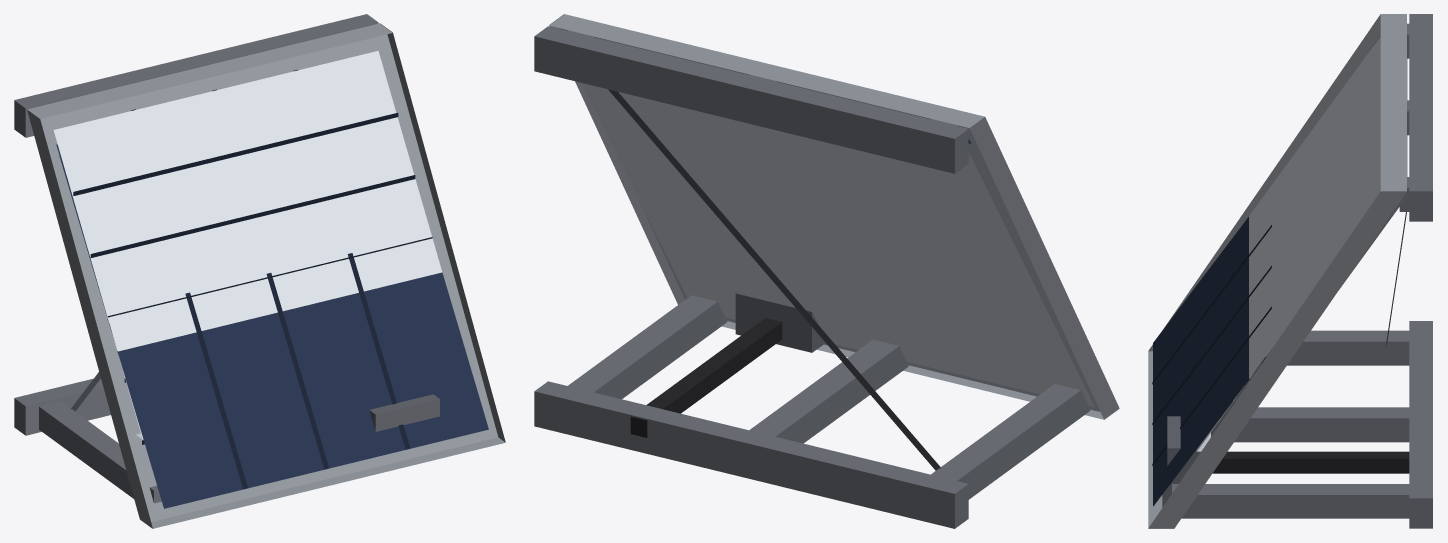
The model's file is array_ground_standard_snow_S.obj.
3 views of the same model, side by side, from view 1: azimuth 30°, elevation 25°; view 2: azimuth 150°, elevation 25°; view 3: azimuth 270°, elevation 25° (orthographic). The views are drawn at different scales.
Parts seen in each view (by area): view 1: array_ground_standard_snow_S; view 2: array_ground_standard_snow_S; view 3: array_ground_standard_snow_S.
Part boxes in pixels (<box>): array_ground_standard_snow_S: <box>14,14,505,528</box>; array_ground_standard_snow_S: <box>534,14,1119,528</box>; array_ground_standard_snow_S: <box>1148,14,1432,528</box>.
Bounding box in the file's own units: 0.881 × 0.781 × 0.5989.
Materials: 1 (1 with a texture image).
